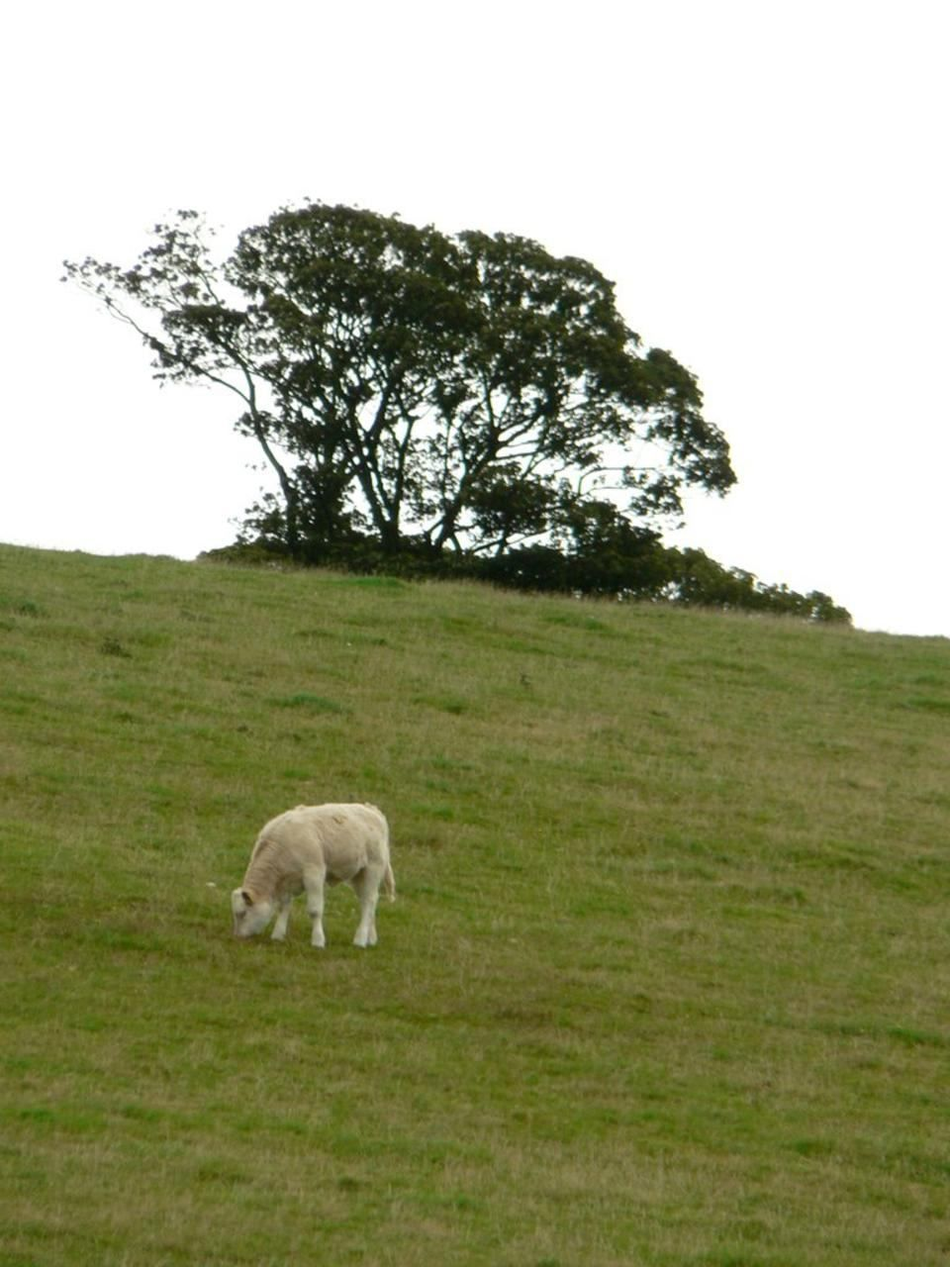bovino: (232, 799, 397, 950)
